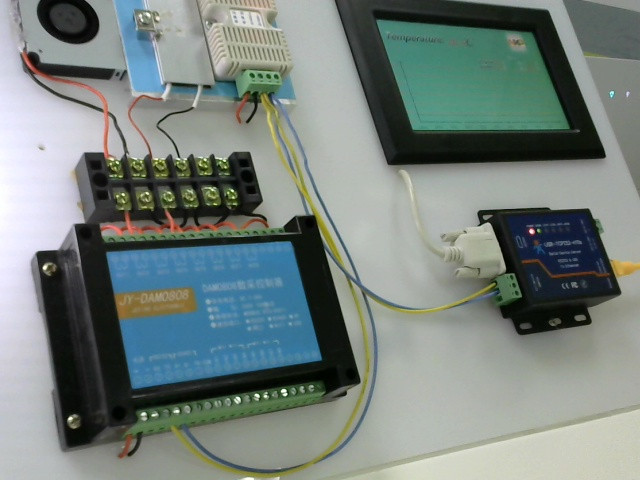modbus bridge: (490, 199, 626, 348)
relay: (26, 217, 370, 445)
